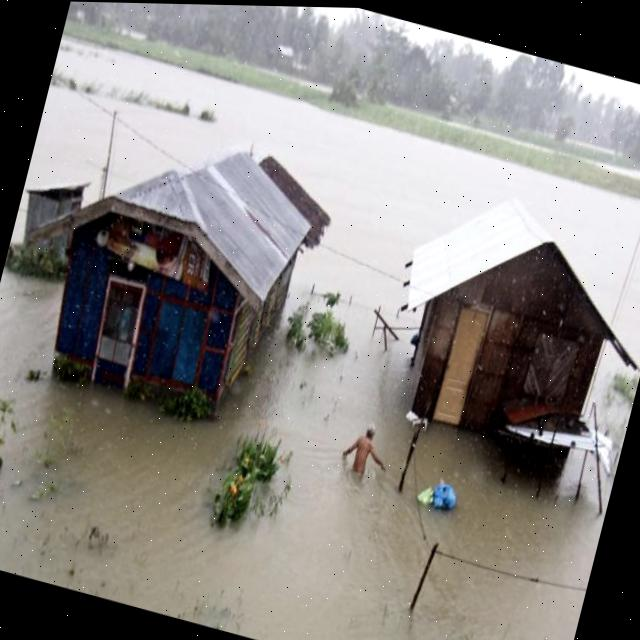civilian: (338, 417, 391, 482)
